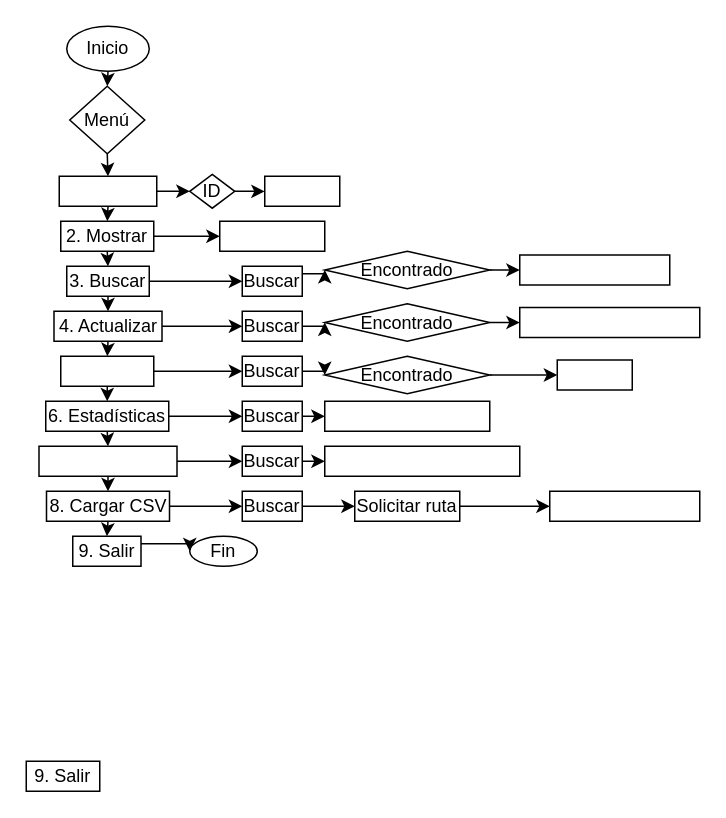
The diagram is 726 pixels wide and 818 high, and some of its shapes have lost their labels. The centre of each missing label's shape, as x and y in pixels:
"1. Agregar" goes at (107,190).
"5. Eliminar" goes at (106,370).
"7. Guardar CSV" goes at (107,460).
"Eliminar" goes at (594,374).
"Insertar" goes at (301,190).
"Mostrar lista" goes at (271,235).
"Mostrar opciones" goes at (624,505).
"Mostrar resultado" goes at (594,269).
"Mostrar resultados" goes at (406,415).
"Solicitar nuevos datos" goes at (609,322).
"Solicitar ruta de archivo" goes at (421,460).
